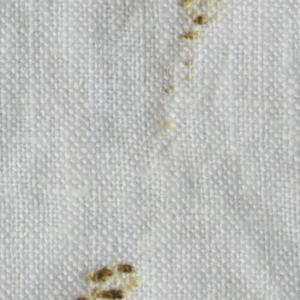Oil Stain: (153, 1, 231, 138), (71, 263, 145, 300)
Wrinkle: (217, 180, 300, 300)
